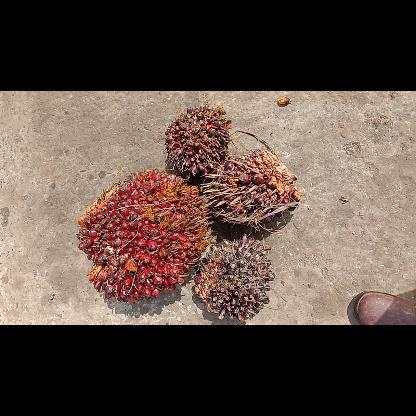TBS abnormal: (199, 146, 303, 230), (192, 232, 276, 322), (162, 103, 232, 181)
TBS masak: (74, 166, 214, 304)
